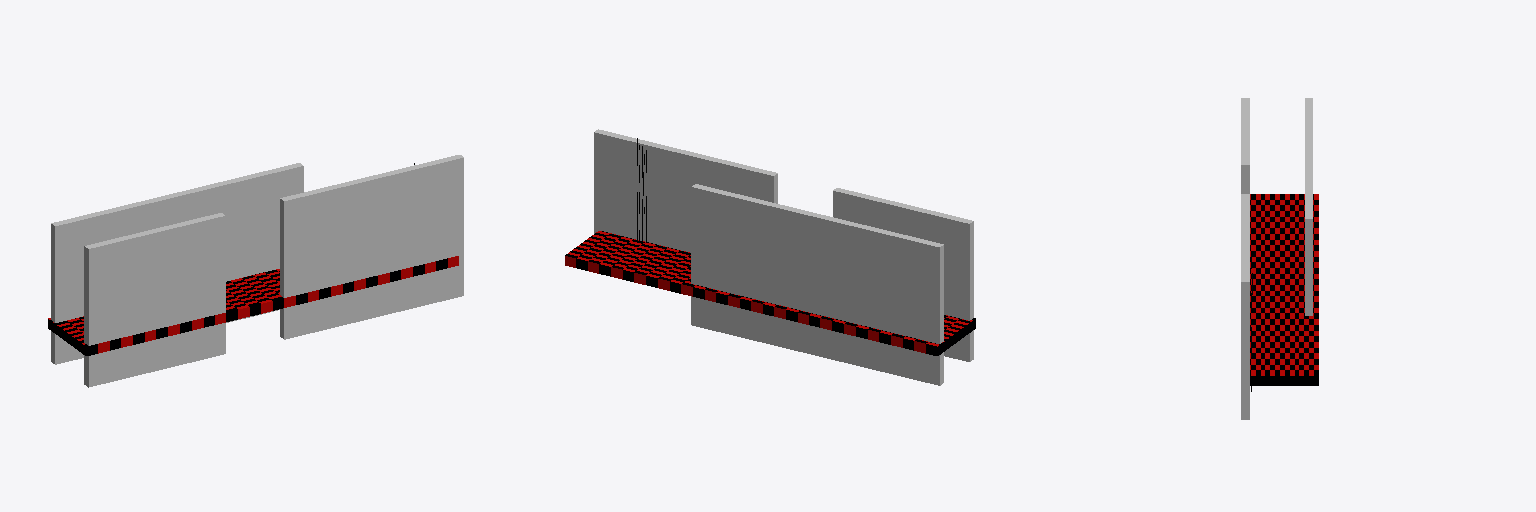
The model's file is hallwayleft.obj.
3 renders of one model, left to right at view 1: azimuth 30°, elevation 25°; view 2: azimuth 150°, elevation 25°; view 3: azimuth 270°, elevation 25°, orthographic.
Visible parts, largest first — view 1: wall_left_1, wall_left_2, wall_right, floor; view 2: wall_right, wall_left_1, floor, wall_left_2; view 3: floor, wall_left_1, wall_right, wall_left_2.
Boxes of the visible parts, box(x1,y1,x2,y2) form: wall_left_1: box(280, 155, 463, 339); wall_left_2: box(84, 213, 225, 387); wall_right: box(51, 163, 303, 364); floor: box(48, 256, 458, 355); wall_right: box(691, 184, 943, 385); wall_left_1: box(594, 129, 777, 252); floor: box(565, 231, 975, 355); wall_left_2: box(833, 188, 973, 361); floor: box(1250, 194, 1318, 385); wall_left_1: box(1241, 194, 1249, 419); wall_right: box(1305, 98, 1312, 315); wall_left_2: box(1241, 98, 1249, 193).
Bounding box in the file's own units: 19.16 × 6.97 × 3.4.